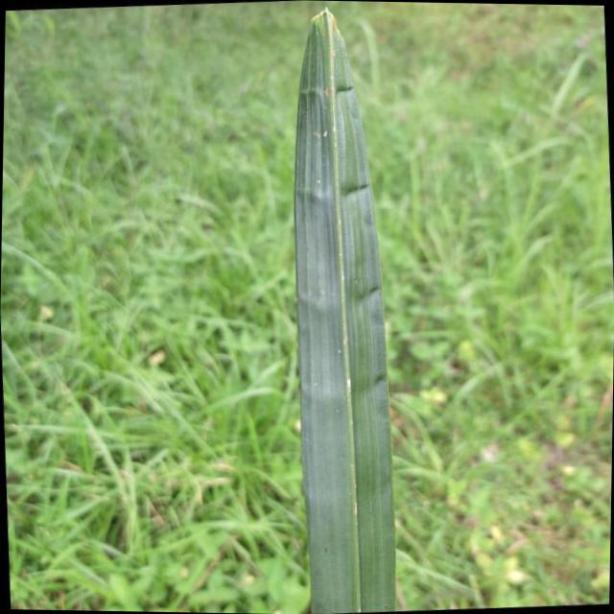Boron: (289, 1, 393, 614)
